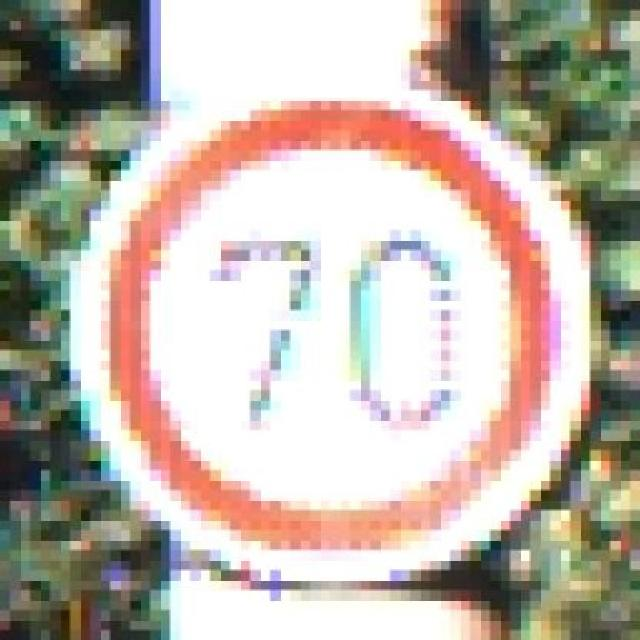forb_speed_over_70: (88, 82, 579, 570)
